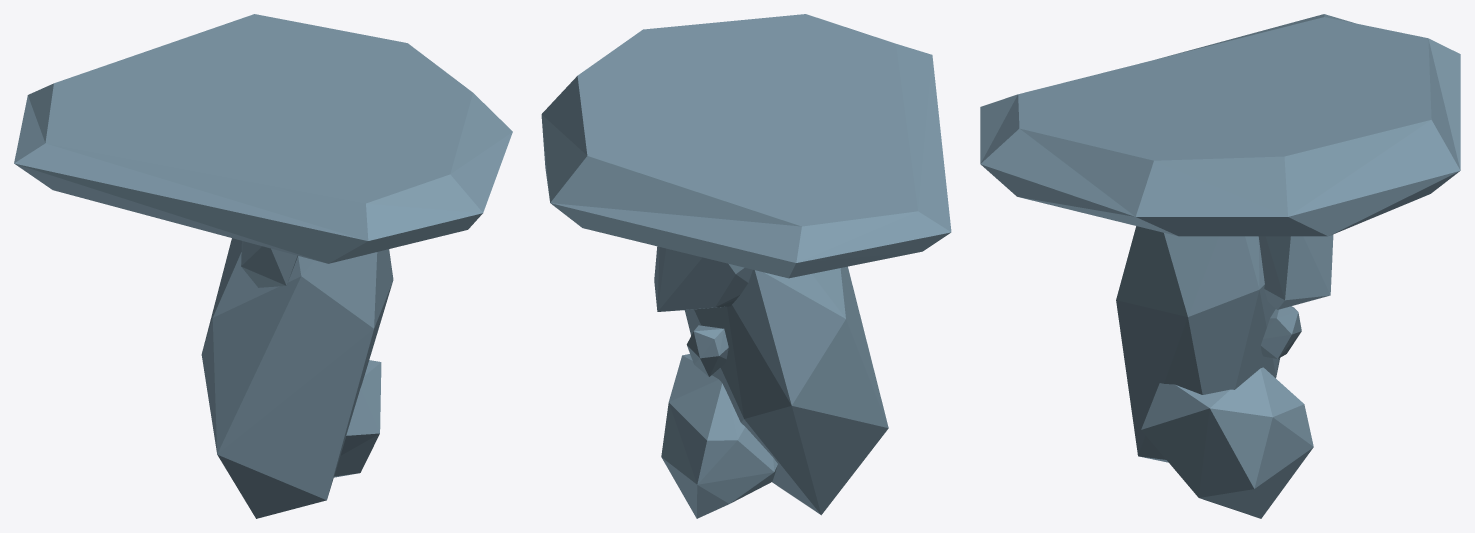
The model's file is StoneTree2.fbx.
The picture shows the model from 3 angles, left to right: view 1: azimuth 30°, elevation 25°; view 2: azimuth 150°, elevation 25°; view 3: azimuth 270°, elevation 25°; orthographic projection. The views are drawn at different scales.
Parts seen in each view (by area): view 1: Cube.049, Cube.050, Cube.053, Cube.052; view 2: Cube.049, Cube.050, Cube.053, Cube.051, Cube.062; view 3: Cube.049, Cube.050, Cube.053, Cube.051, Cube.062.
Part boxes in pixels (<box>): Cube.049: <box>14,14,512,263</box>; Cube.050: <box>201,238,393,518</box>; Cube.053: <box>334,360,381,477</box>; Cube.052: <box>241,241,297,287</box>; Cube.049: <box>541,14,951,278</box>; Cube.050: <box>684,266,888,515</box>; Cube.053: <box>661,354,777,518</box>; Cube.051: <box>654,246,752,311</box>; Cube.062: <box>686,325,728,376</box>; Cube.049: <box>980,14,1460,236</box>; Cube.050: <box>1116,226,1279,462</box>; Cube.053: <box>1141,367,1313,518</box>; Cube.051: <box>1258,234,1333,309</box>; Cube.062: <box>1260,306,1301,358</box>.
Size of the model in its own units: 1437 by 1364 by 1437.
